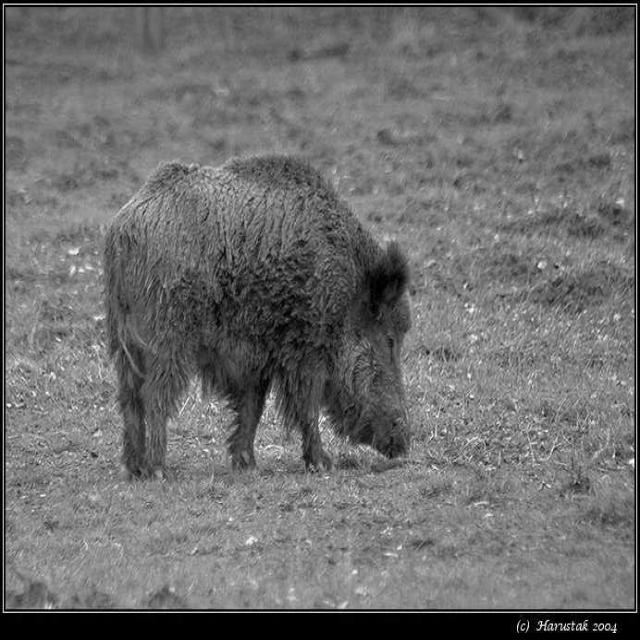boar: (104, 156, 413, 479)
